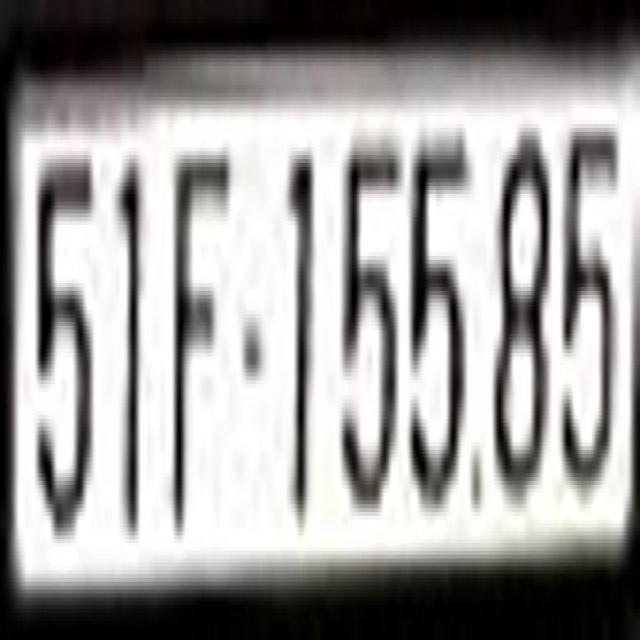1: (112, 128, 146, 547), (288, 171, 315, 516)
5: (36, 128, 100, 562), (343, 147, 397, 512), (414, 132, 464, 504), (565, 112, 614, 474)
8: (492, 116, 554, 508)
F: (170, 147, 238, 551)
